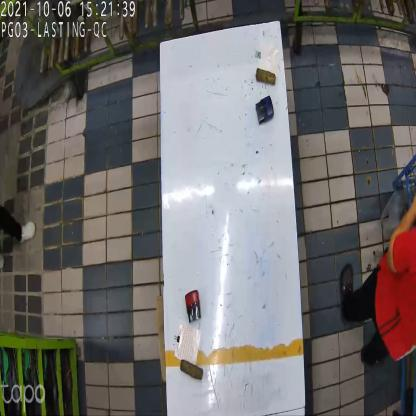stamp: (183, 291, 203, 326), (256, 95, 274, 128)
